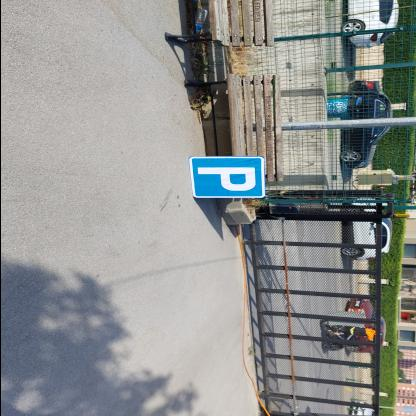Parking-Sign: (188, 157, 266, 200)
